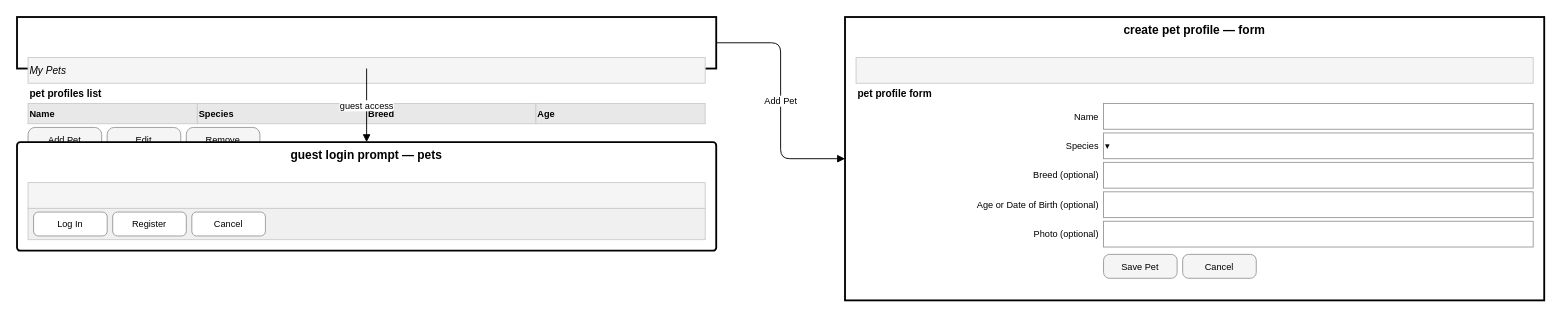
This 1560x316 diagram has some shape labels left out. The shapes that lost their labels are listed below. From the top down, each one's box as (x1, y1, x2, y2) in pixels, then its label:
(16, 16, 717, 69): my pets — list
(855, 57, 1533, 83): Add New Pet
(27, 182, 705, 208): Log in or register to manage your pets
